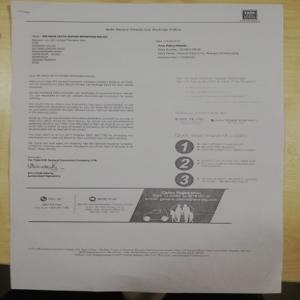text: (27, 73, 138, 149), (25, 30, 107, 66), (152, 37, 241, 63)
